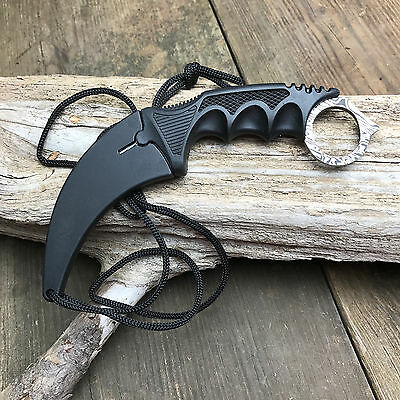knief: (24, 58, 372, 295)
